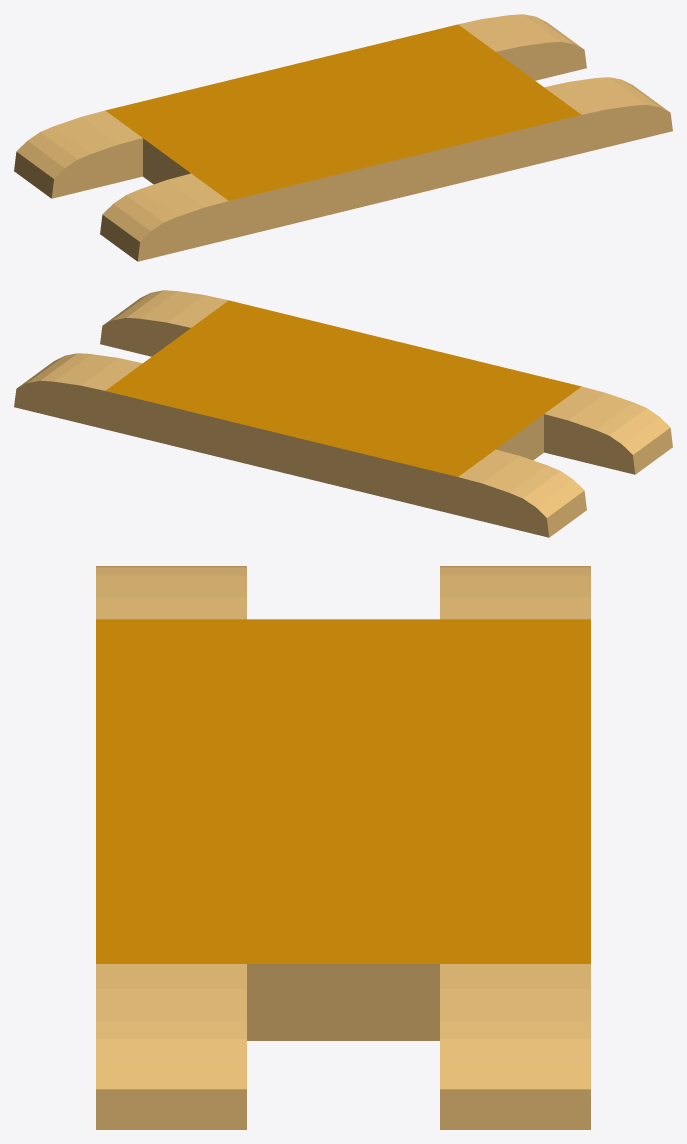
Rendered from repairSpot.fbx.
3 views of the same model, one above another, from view 1: azimuth 30°, elevation 25°; view 2: azimuth 150°, elevation 25°; view 3: azimuth 270°, elevation 25° (orthographic). The views are drawn at different scales.
Visible parts, largest first — view 1: carrepair1; view 2: carrepair1; view 3: carrepair1.
Boxes of the visible parts, x1,y1,x2,y2 form: carrepair1: (14,14,672,261); carrepair1: (14,290,672,537); carrepair1: (96,566,590,1129).
Size of the model in its own units: 16.11 by 6.45 by 1.11.
